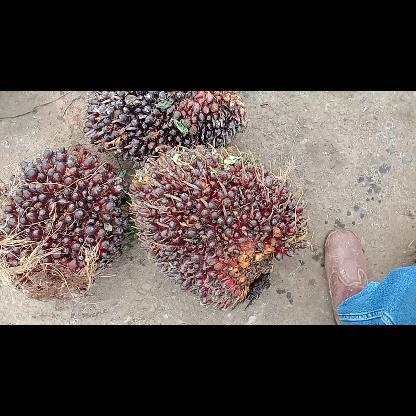Kurang masak: (128, 146, 310, 312), (0, 142, 125, 298)
TBS mentah: (82, 90, 244, 156)
